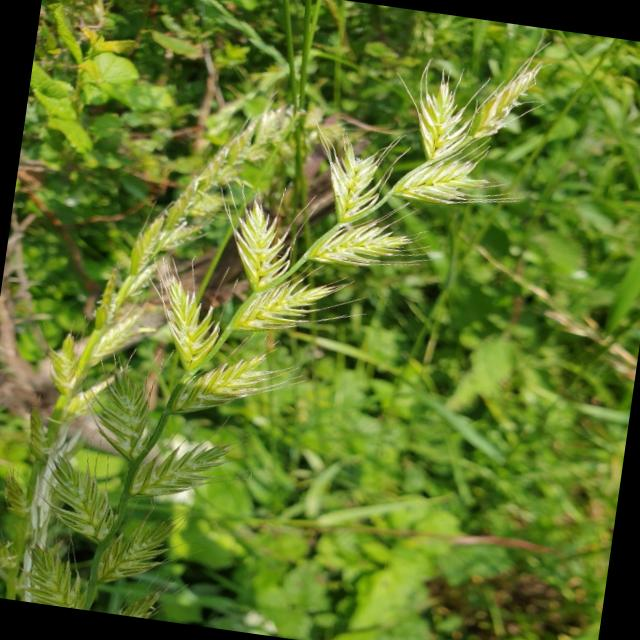Lolium: (17, 12, 535, 640), (0, 82, 289, 618)
